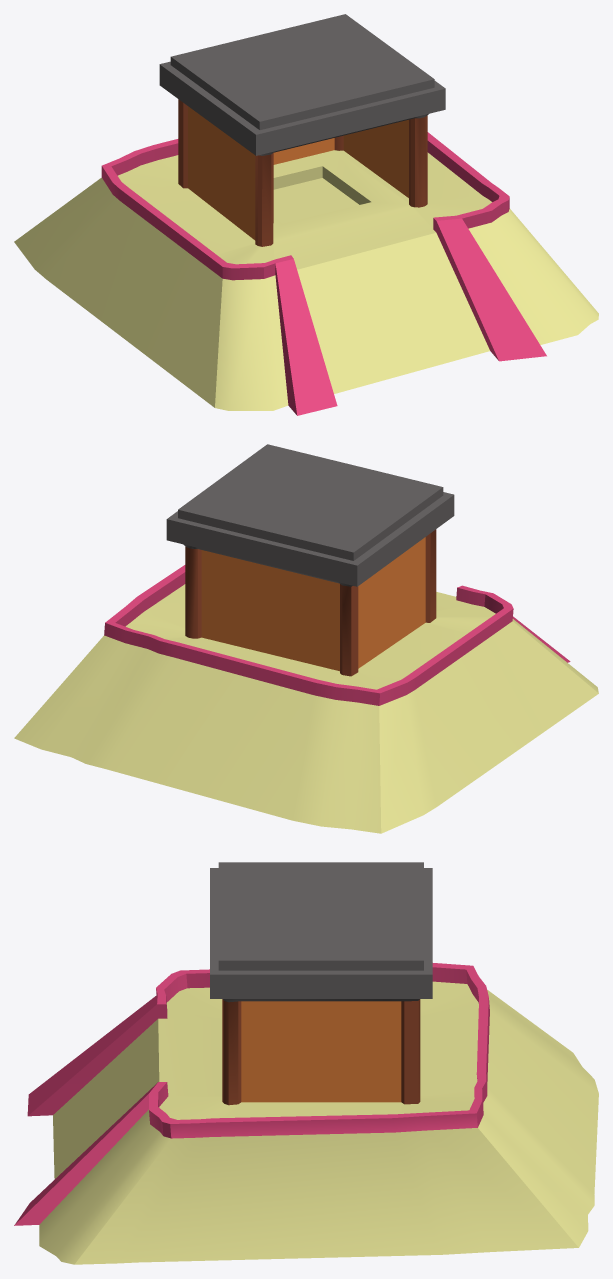
The model's file is piramide_baño.fbx.
3 renders of one model, top to bottom at view 1: azimuth 30°, elevation 25°; view 2: azimuth 150°, elevation 25°; view 3: azimuth 270°, elevation 25°, orthographic. The views are drawn at different scales.
Visible parts, largest first — view 1: fuente.001; view 2: fuente.001; view 3: fuente.001.
Part boxes in pixels (x1,y1,x2,y2): fuente.001: (14, 14, 598, 415); fuente.001: (14, 444, 598, 833); fuente.001: (14, 862, 598, 1264).
Size of the model in its own units: 6687 by 3743 by 7710.
